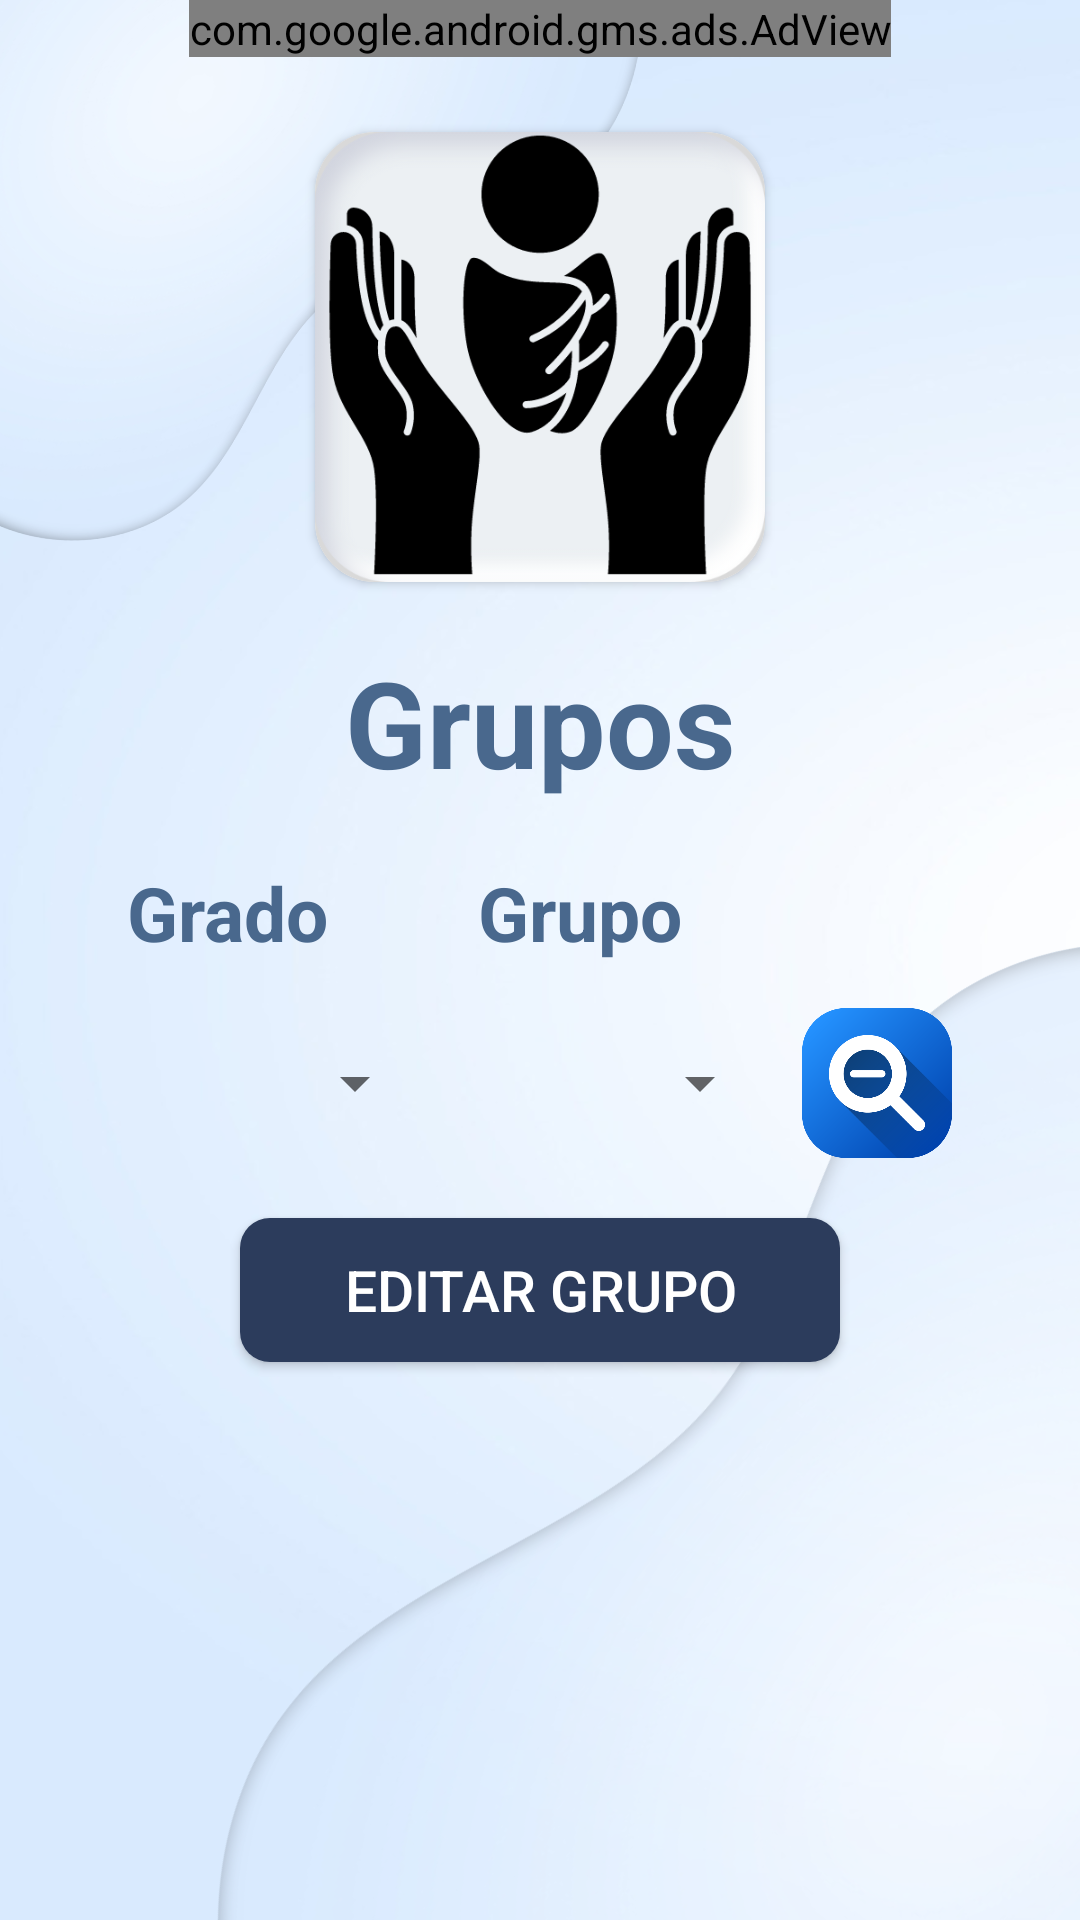

Icon bounding boxes for this 1080×1920 phone screenshot, format [left=x1, top=y1, right=x2, bottom=y2]:
search: [left=802, top=1008, right=952, bottom=1158]
